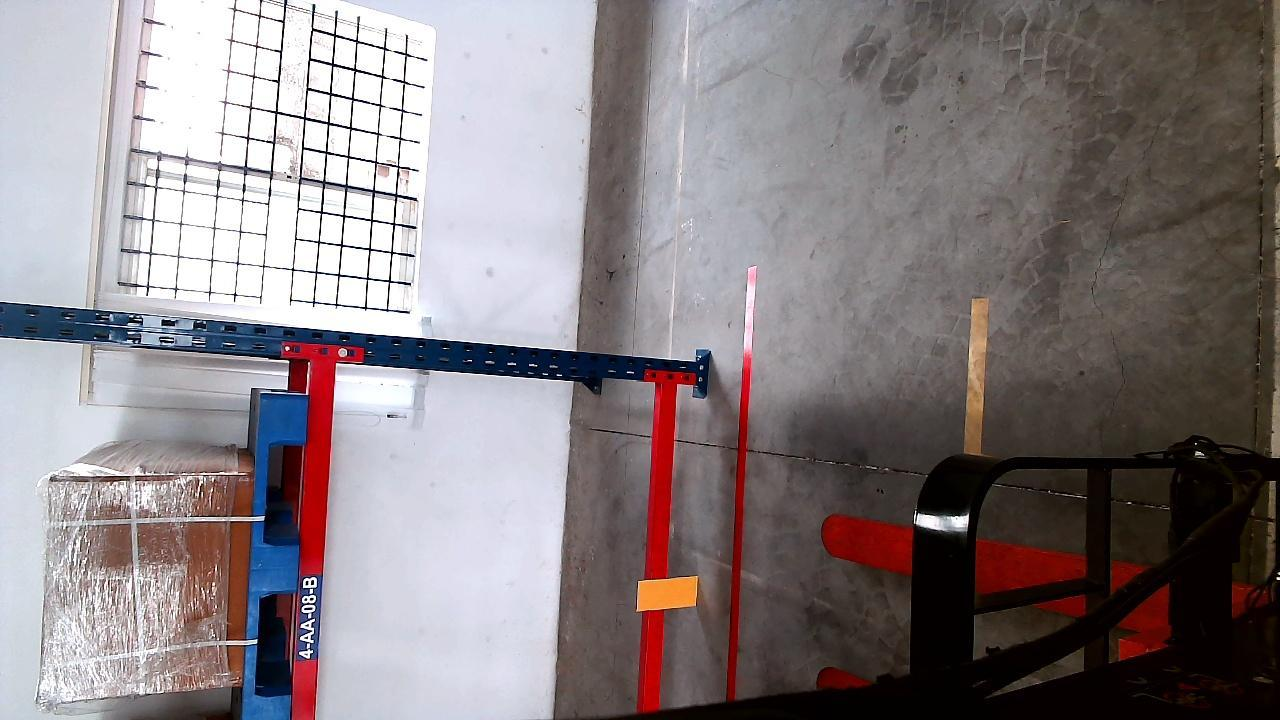red_line: (721, 267, 758, 700)
yellow_line: (964, 298, 989, 452)
